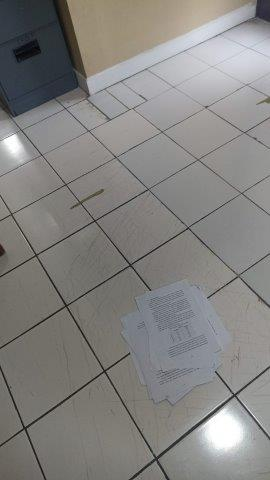kertas: (121, 281, 232, 401)
